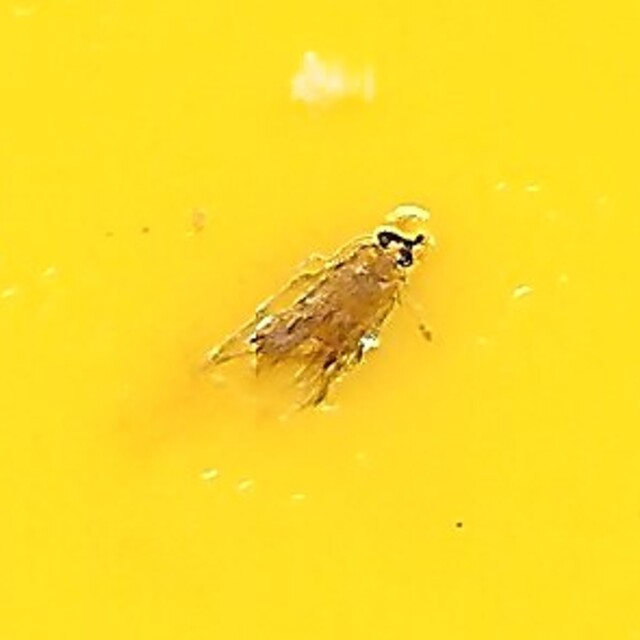Trichoptera: (217, 217, 423, 423)
